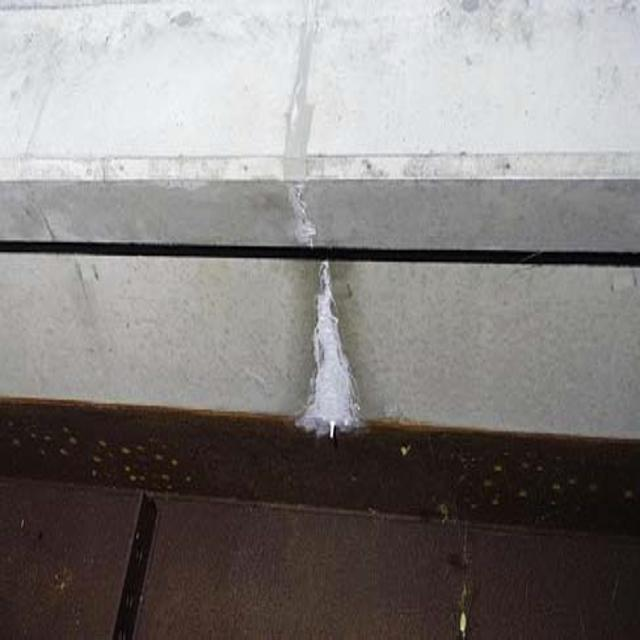freelime: (302, 258, 364, 438)
